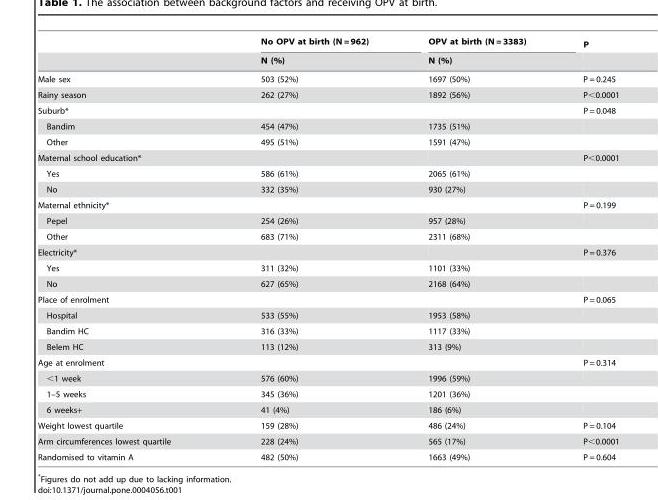table: (37, 36, 618, 461)
table column: (215, 36, 397, 461), (37, 36, 215, 461), (397, 36, 554, 461), (554, 36, 618, 461)
table column header: (37, 36, 618, 69)
table row: (37, 52, 618, 69), (37, 69, 618, 86), (37, 400, 618, 417), (37, 36, 618, 52), (37, 86, 618, 102), (37, 102, 618, 118), (37, 118, 618, 134), (37, 149, 618, 165), (37, 165, 618, 181), (37, 181, 618, 197), (37, 212, 618, 228), (37, 228, 618, 244), (37, 244, 618, 260), (37, 275, 618, 291), (37, 291, 618, 307), (37, 307, 618, 323), (37, 338, 618, 354), (37, 354, 618, 370), (37, 370, 618, 386), (37, 417, 618, 433), (37, 433, 618, 449), (37, 134, 618, 149), (37, 197, 618, 212), (37, 260, 618, 275), (37, 323, 618, 338), (37, 386, 618, 400), (37, 449, 618, 461)
table spanning cell: (215, 36, 397, 69), (397, 36, 554, 69), (554, 36, 618, 69)
